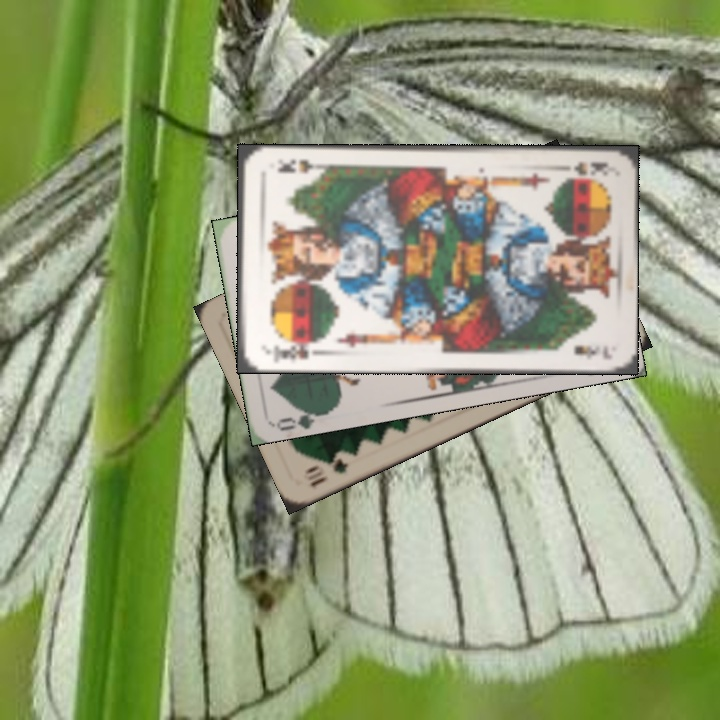G10: (302, 453, 351, 490)
GO: (273, 402, 332, 432)
SK: (262, 337, 321, 364), (570, 157, 612, 179)
